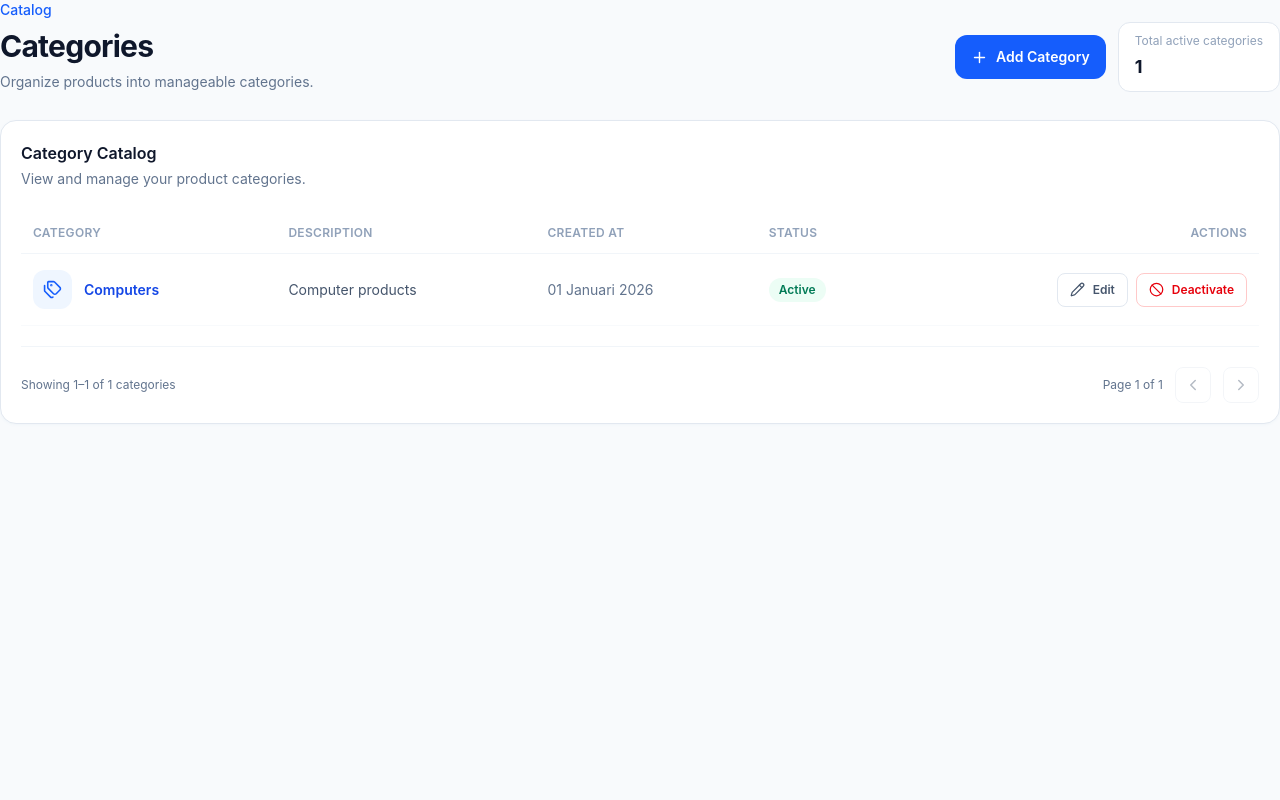
Test case: CategoriesPage › displays and dismisses deactivation errors
Expected: the link "Computers" is shown, top-left (84, 280), bottom-right (159, 300)
Click the button with aria-label "Deactivate Computers" at (1191, 290), box top-left (1136, 272), bottom-right (1247, 306)
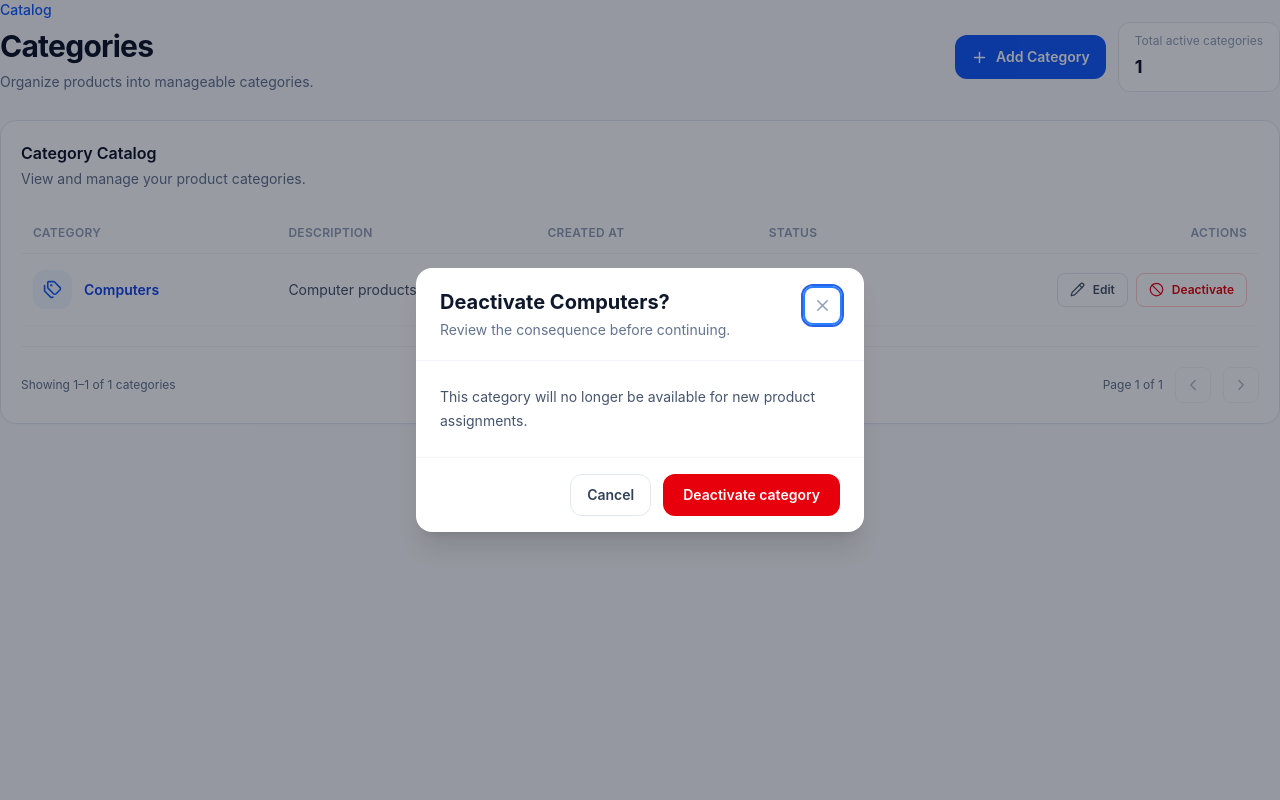
Click the button "Deactivate category" at (752, 495), box top-left (663, 474), bottom-right (840, 516)
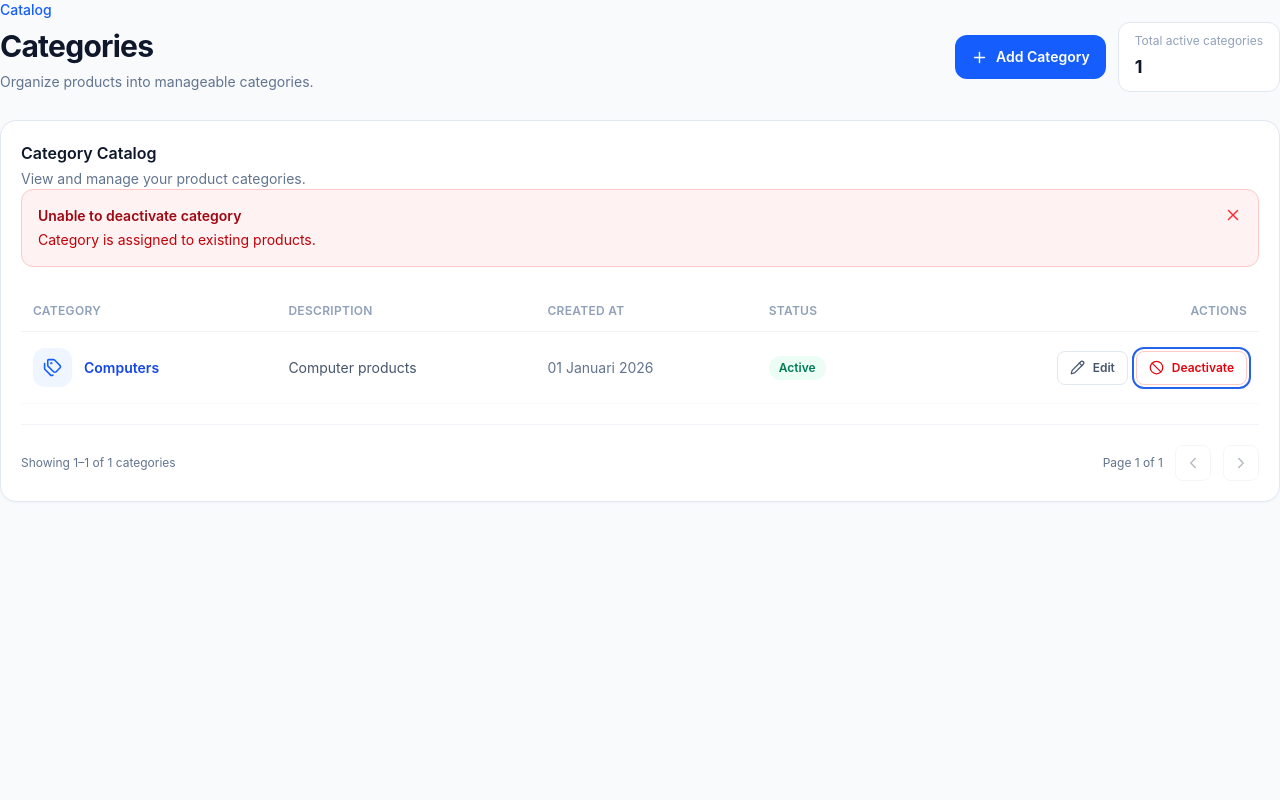
Result: the message shows "Unable to deactivate category" at top-left (38, 207), bottom-right (241, 224)
Result: the message shows "Category is assigned to existing products." at top-left (38, 231), bottom-right (316, 248)
Click the button named "Dismiss error" at (1233, 215), box top-left (1224, 206), bottom-right (1242, 224)
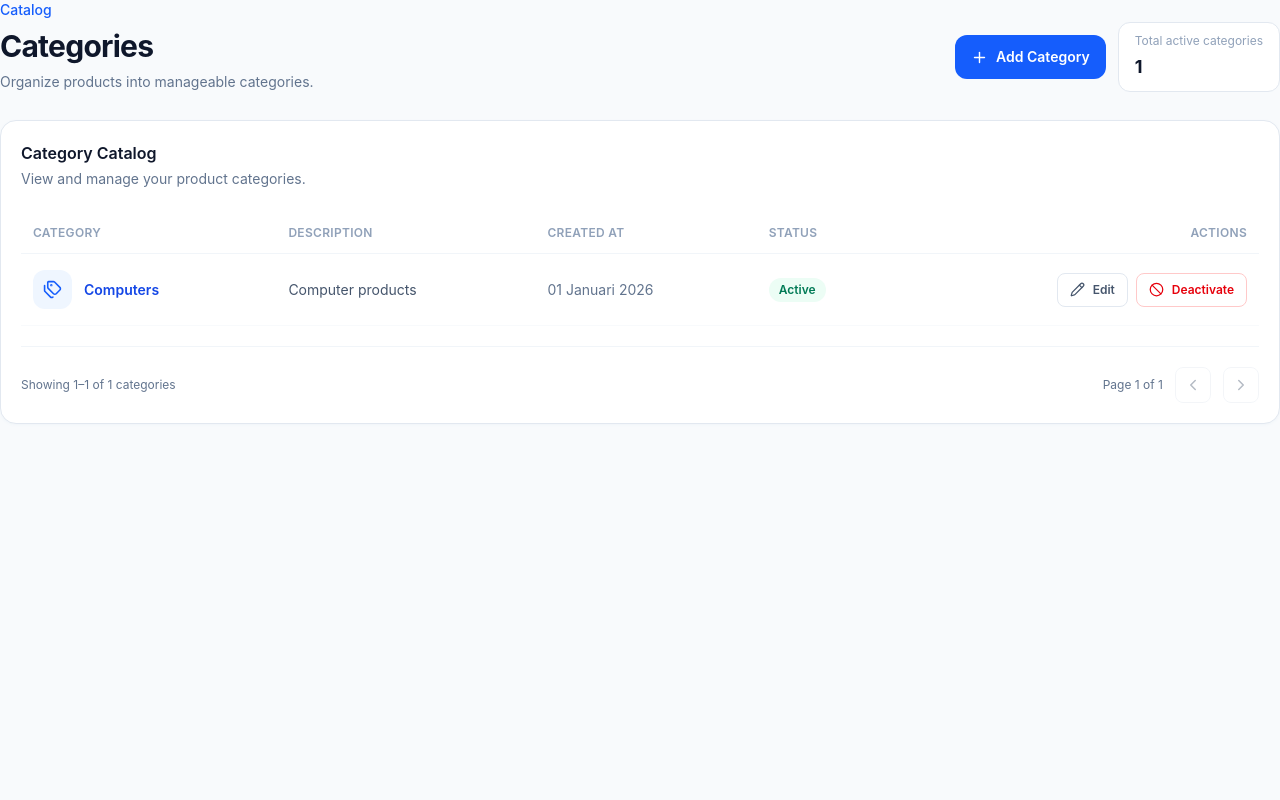
Expected: the link "Computers" is shown, top-left (84, 280), bottom-right (159, 300)
Result: the message "Unable to deactivate category Category is assigned to existing products." is gone
